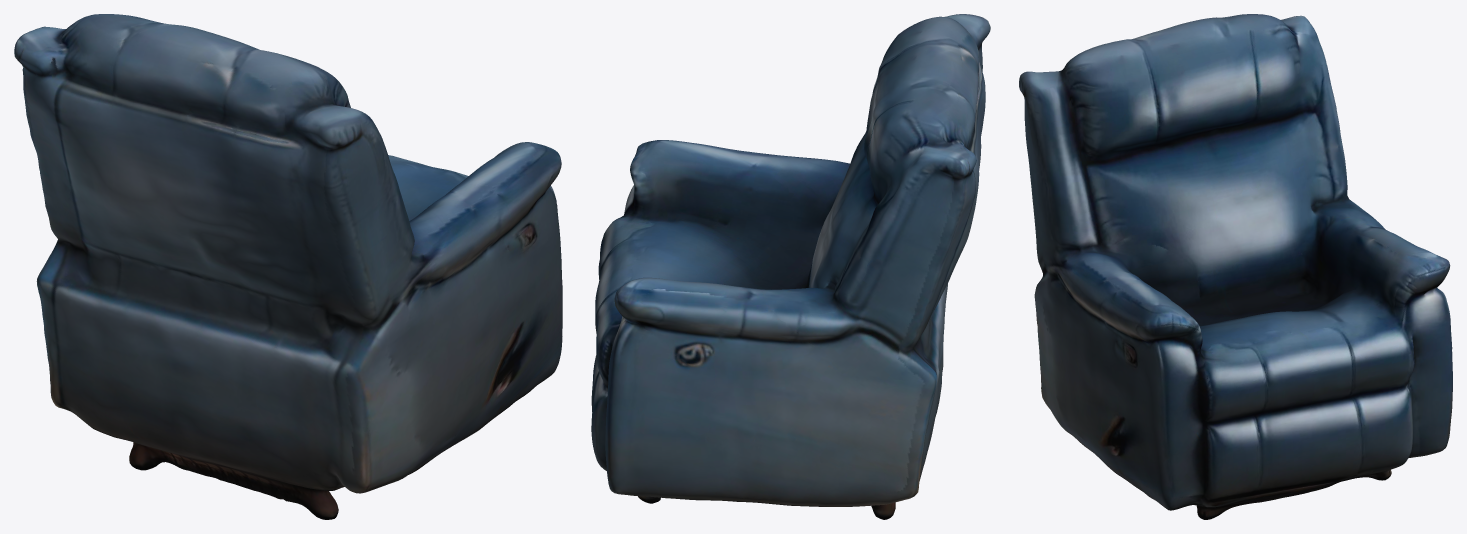
The picture shows the model from 3 angles, left to right: view 1: azimuth 30°, elevation 25°; view 2: azimuth 150°, elevation 25°; view 3: azimuth 270°, elevation 25°; orthographic projection. The views are drawn at different scales.
Parts seen in each view (by area): view 1: geometry_0; view 2: geometry_0; view 3: geometry_0.
Part boxes in pixels (x1=…): geometry_0: x1=14, y1=14, x2=562, y2=519; geometry_0: x1=591, y1=14, x2=990, y2=519; geometry_0: x1=1019, y1=14, x2=1452, y2=519.
Bounding box in the file's own units: 0.7406 × 0.7212 × 0.732.
Materials: 1 (1 with a texture image).
